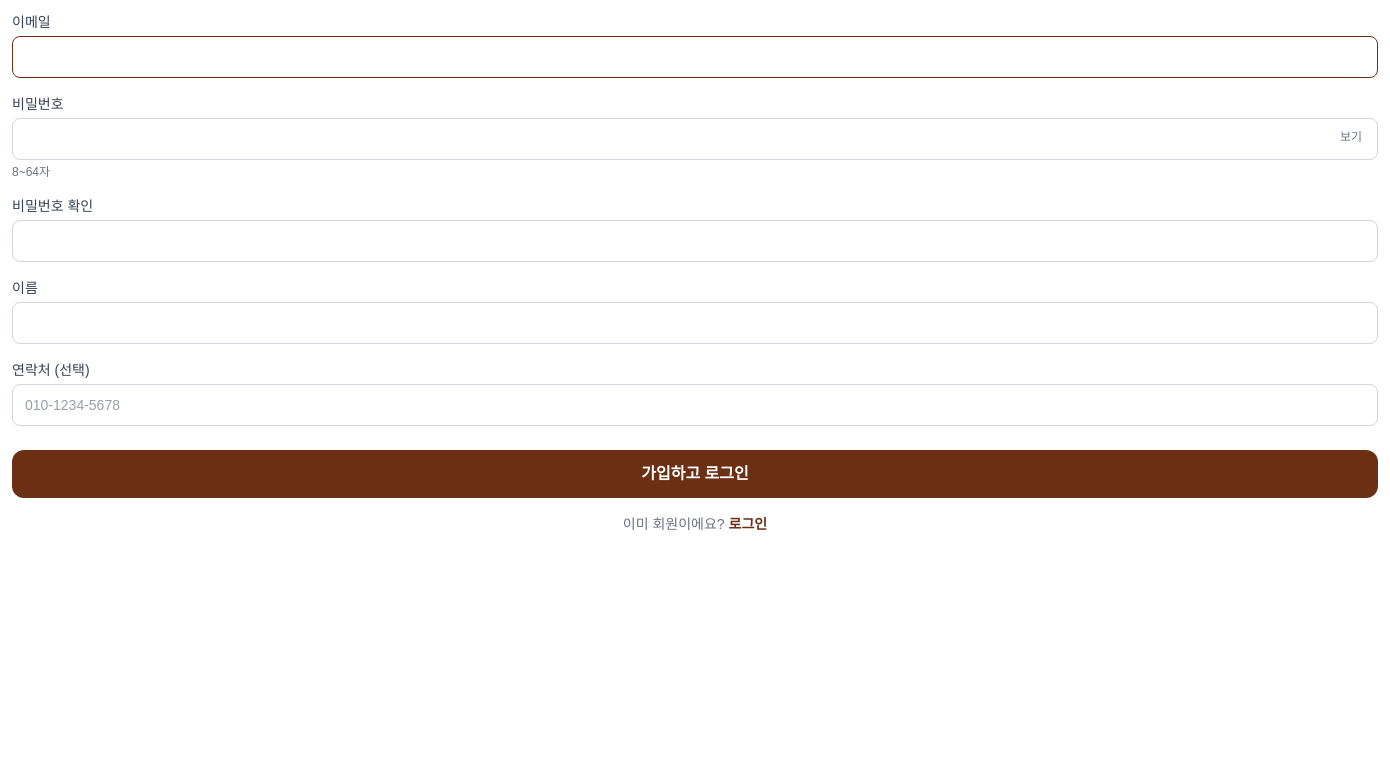
Scenario: 회원가입 폼 › 어느 칸인지 모르는 오류 · 연결 실패는 맨 아래 상자에
The width and height of the screenshot is (1390, 780).
Type "kim@test.com" into the field labelled "이메일" at (695, 57), box left=12, top=36, right=1378, bottom=78
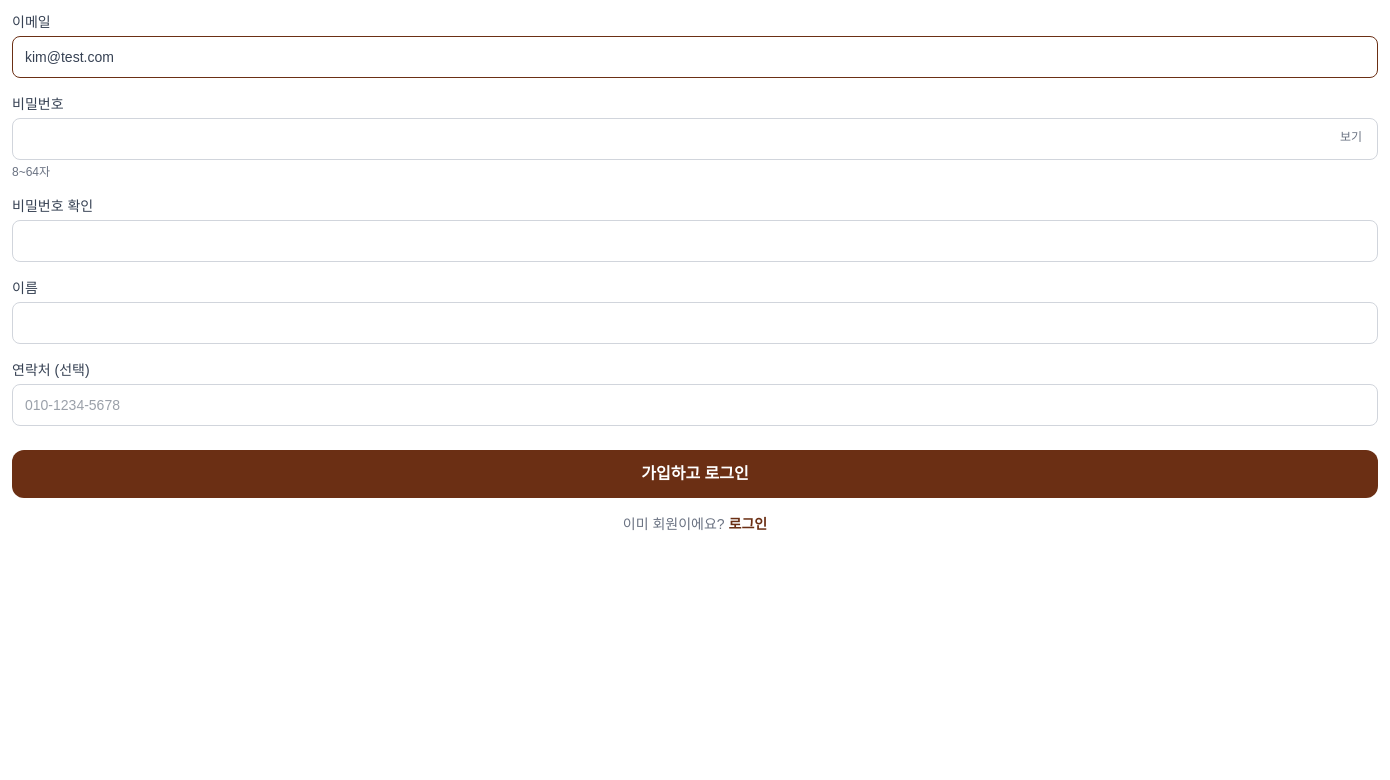
Type "secret-123" into the password field labelled "비밀번호 보기 8~64자" at (695, 139), box left=12, top=118, right=1378, bottom=160
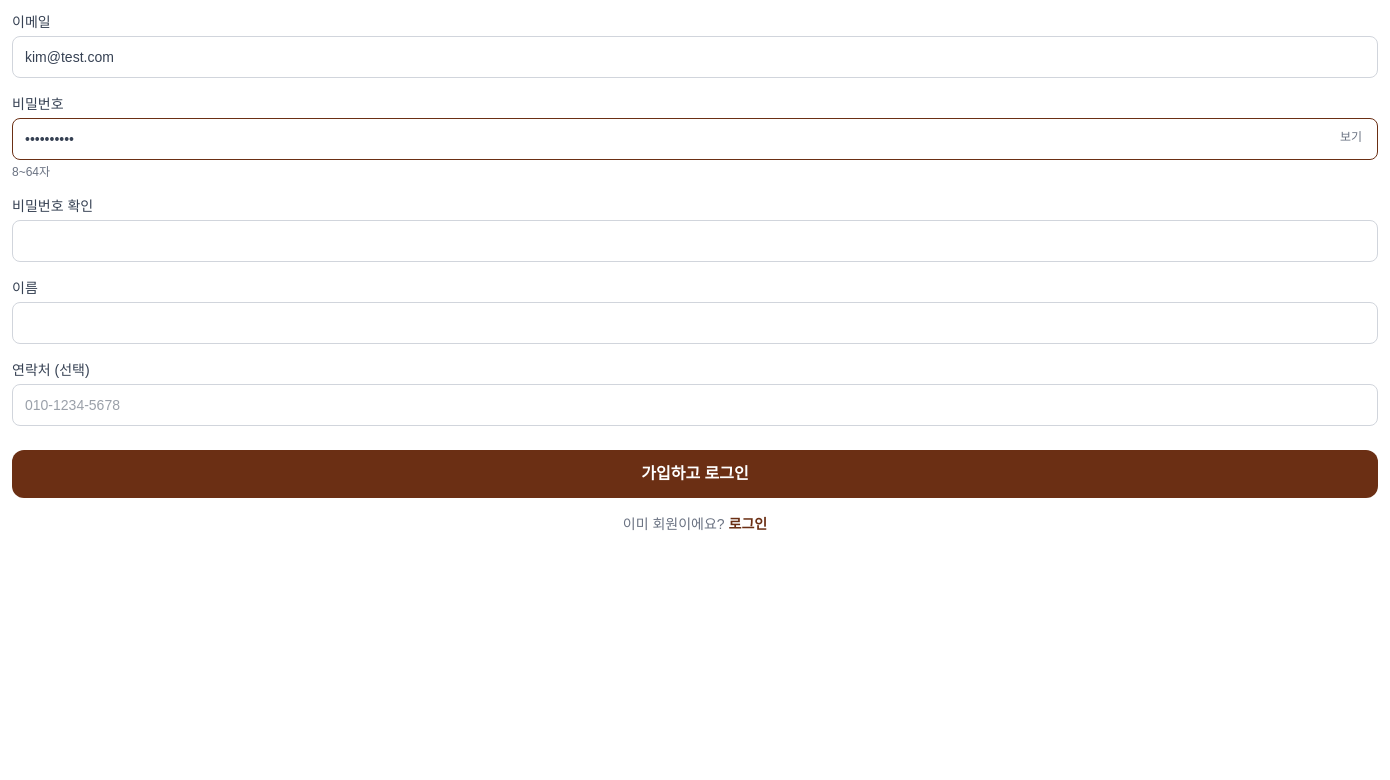
Type "secret-123" into the password field labelled "비밀번호 확인" at (695, 241), box left=12, top=220, right=1378, bottom=262
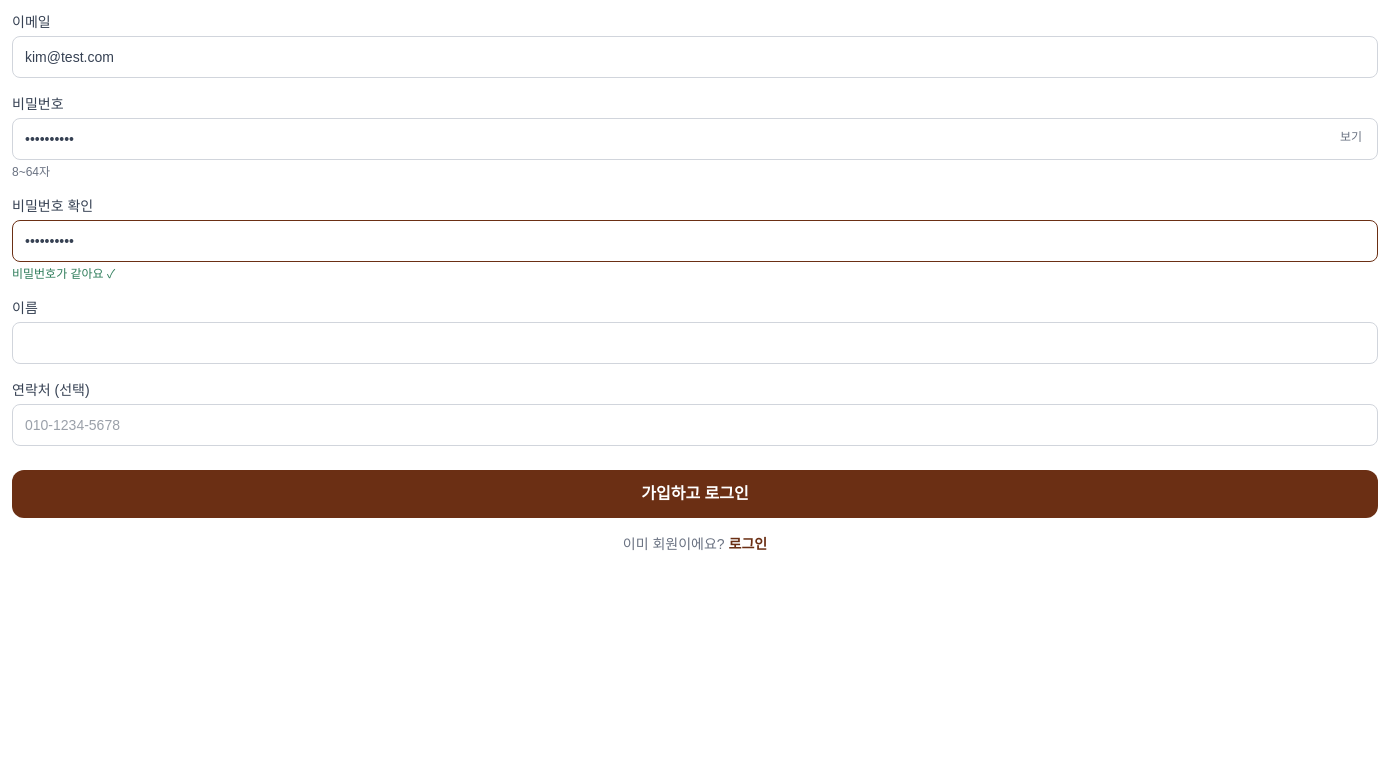
Type " 김 " into the field labelled "이름" at (695, 343), box left=12, top=322, right=1378, bottom=364
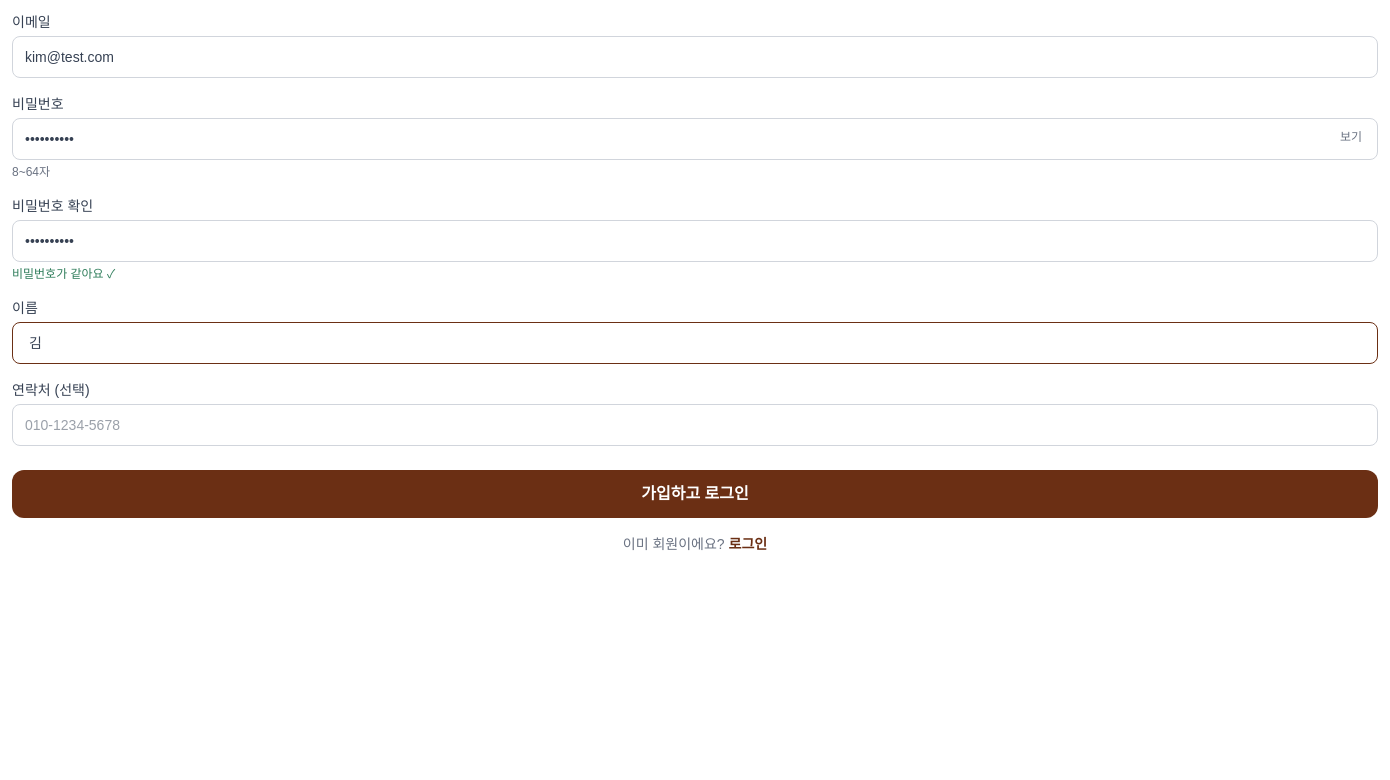
Click the button "가입하고 로그인" at (695, 494), box left=12, top=470, right=1378, bottom=518
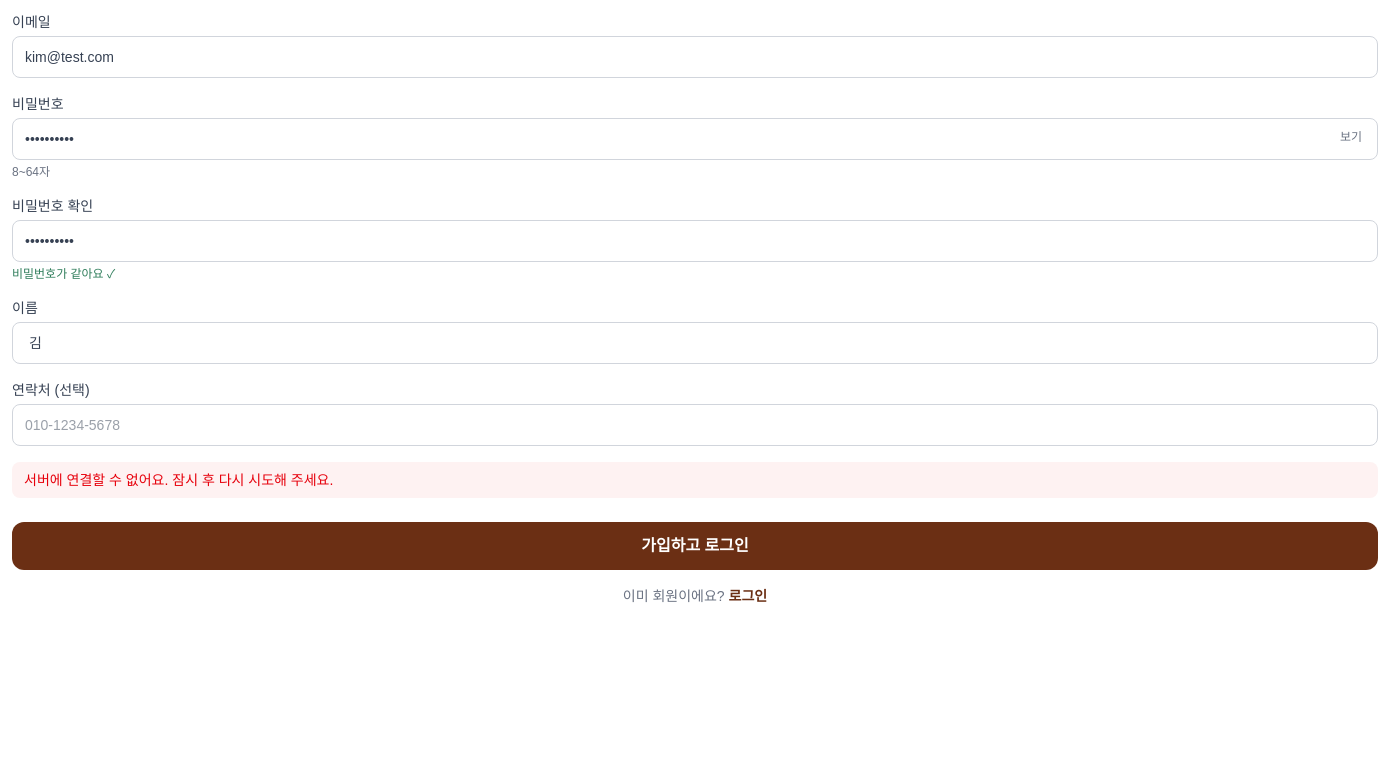
Check: the button "가입하고 로그인" is enabled, box left=12, top=522, right=1378, bottom=570
Check: the message reads "서버에 연결할 수 없어요. 잠시 후 다시 시도해 주세요.", box left=24, top=472, right=333, bottom=488
